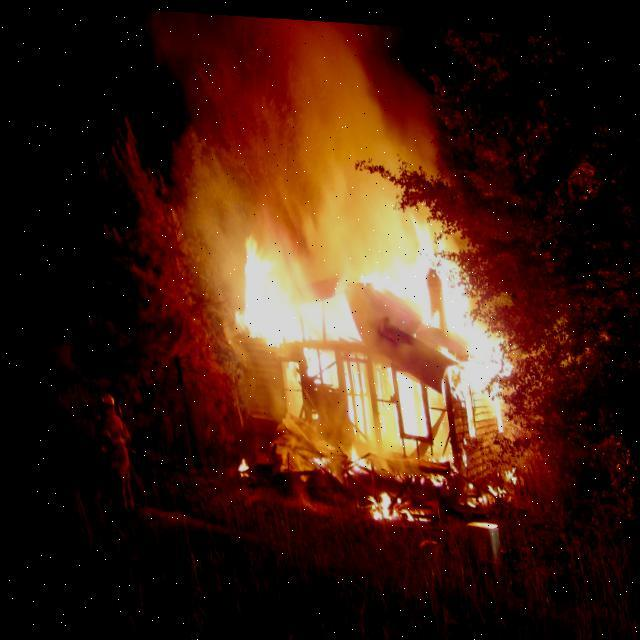Fire: (219, 206, 522, 529)
